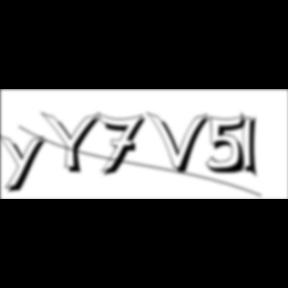5: (206, 114, 252, 176)
7: (98, 111, 152, 179)
I: (241, 110, 265, 182)
V: (148, 110, 214, 176)
Y: (39, 110, 106, 176)
y: (0, 132, 52, 196)
